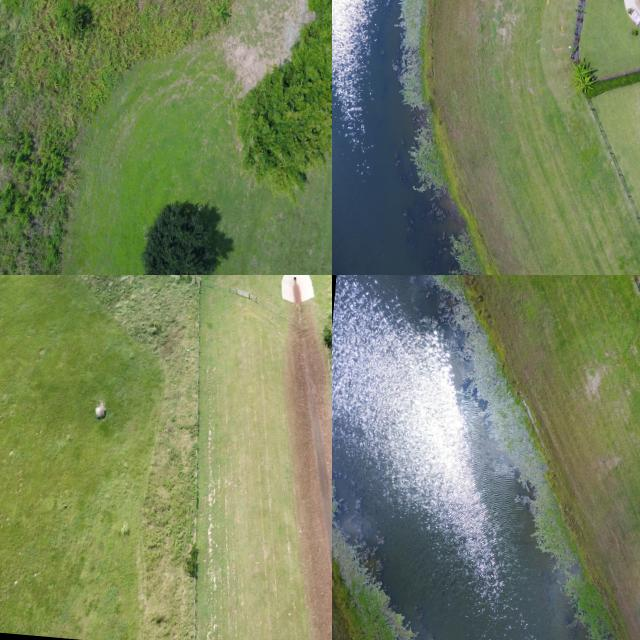fire: (332, 275, 588, 640), (332, 0, 461, 275)
